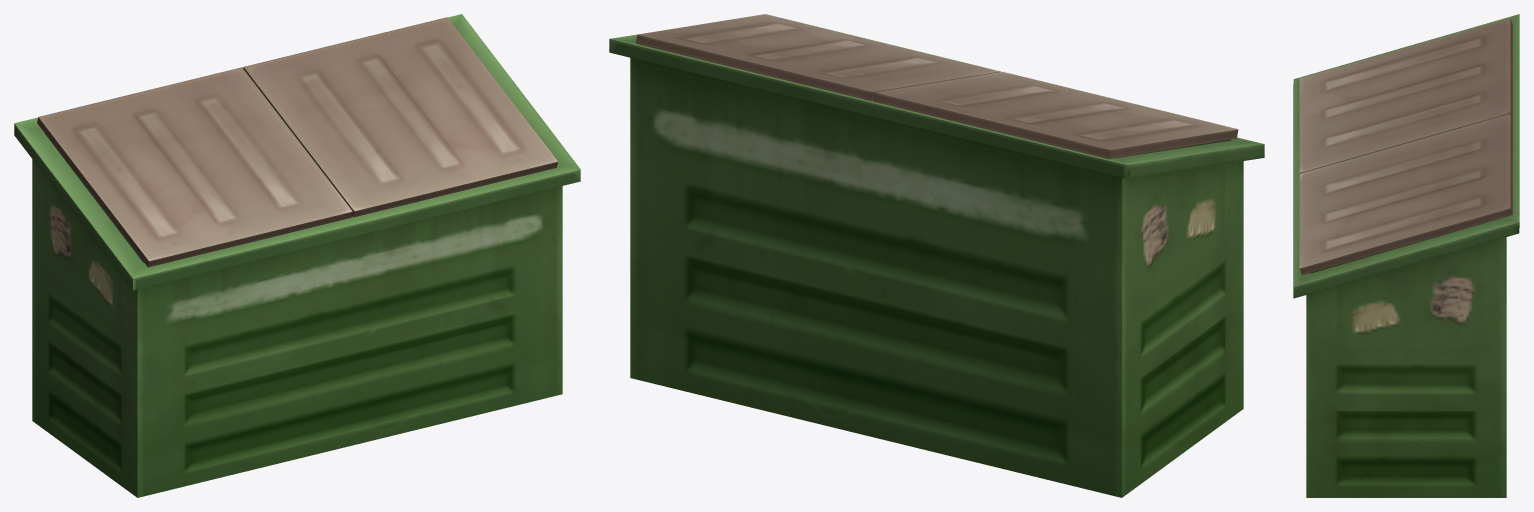
File: Trash_can.FBX
The picture shows the model from 3 angles, left to right: view 1: azimuth 30°, elevation 25°; view 2: azimuth 150°, elevation 25°; view 3: azimuth 270°, elevation 25°; orthographic projection. The views are drawn at different scales.
Visible parts, largest first — view 1: Trash_can_large, cap_1, cap_2; view 2: Trash_can_large, cap_1, cap_2; view 3: Trash_can_large, cap_2, cap_1.
Part boxes in pixels (x1,y1,x2,y2): Trash_can_large: (14, 14, 580, 497); cap_1: (37, 67, 352, 267); cap_2: (243, 17, 557, 217); Trash_can_large: (609, 34, 1264, 497); cap_1: (873, 71, 1238, 158); cap_2: (636, 14, 1000, 101); Trash_can_large: (1293, 14, 1519, 497); cap_2: (1299, 113, 1512, 274); cap_1: (1299, 18, 1512, 173).
Size of the model in its own units: 275 by 176 by 126.
